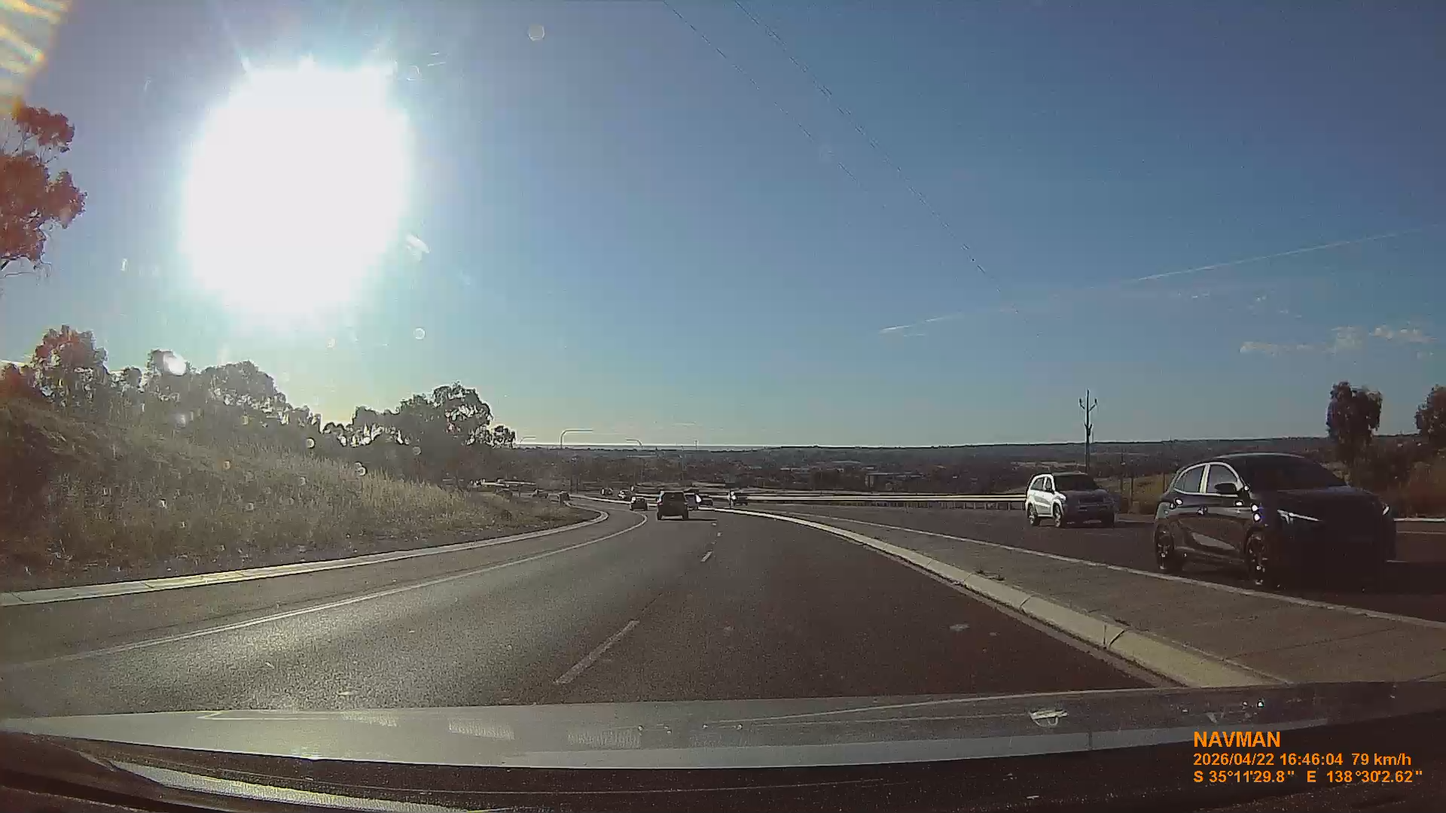road barriers: (749, 494, 1025, 510)
